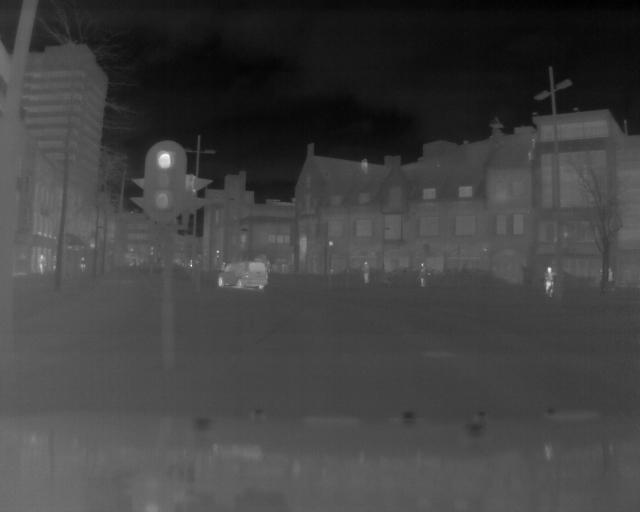car: (214, 259, 271, 294)
person: (543, 264, 557, 304), (360, 259, 371, 284), (417, 260, 426, 288), (36, 250, 45, 275), (79, 255, 85, 273)
